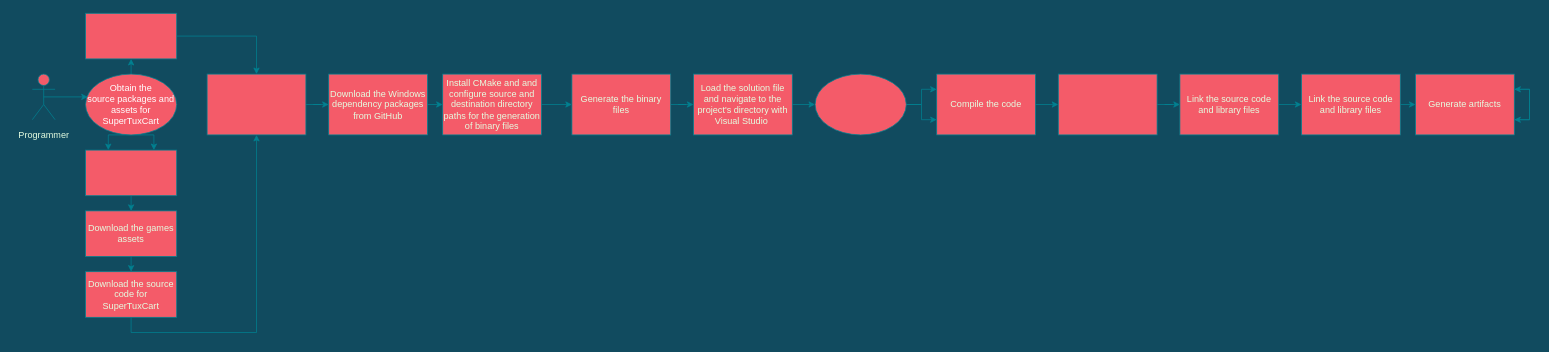
The diagram is 1549 pixels wide and 352 high, and some of its shapes have lost their labels. Here are the shapes that lost their labels. From the top down, the box of each, then its label:
(85, 13, 177, 59): Choose the " stable version "
(206, 73, 306, 135): Install an Integrated Development Environment to build the code
(814, 73, 906, 135): Build the program
(1058, 73, 1157, 135): Execute Tests
(85, 149, 177, 196): Choose the " development version"
